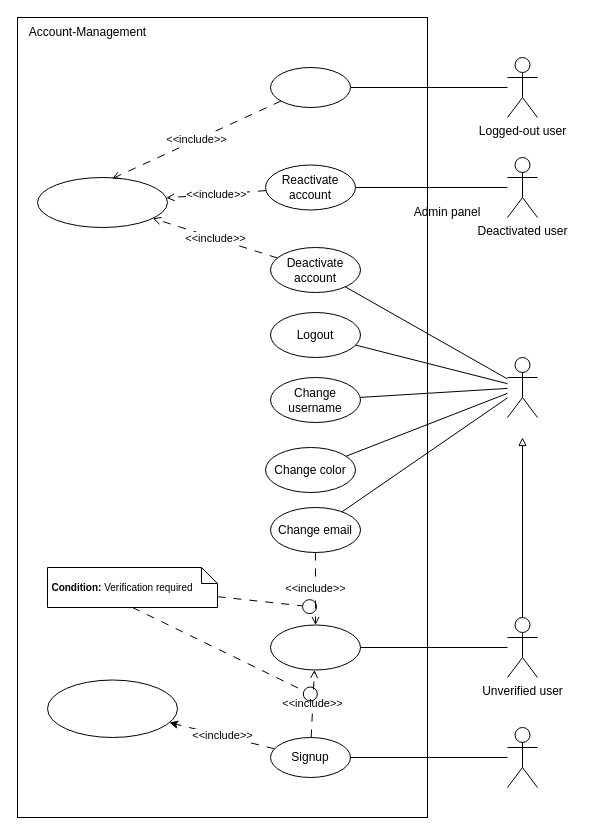
The diagram is 596 pixels wide and 835 high, and some of its shapes have lost their labels. The centre of each missing label's shape, as x and y in pixels:
Authenticate with credentials: the point at 102,202
Configure account values: the point at 112,708
Logged-in user: the point at 522,387
Login: the point at 310,87
User without account: the point at 522,757
Verify email: the point at 315,647
